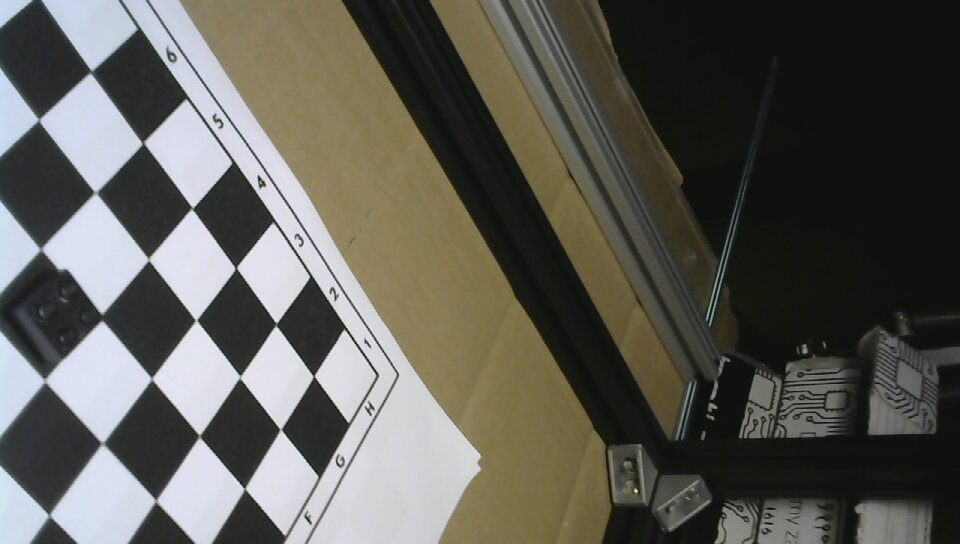bp: (10, 263, 104, 371)
